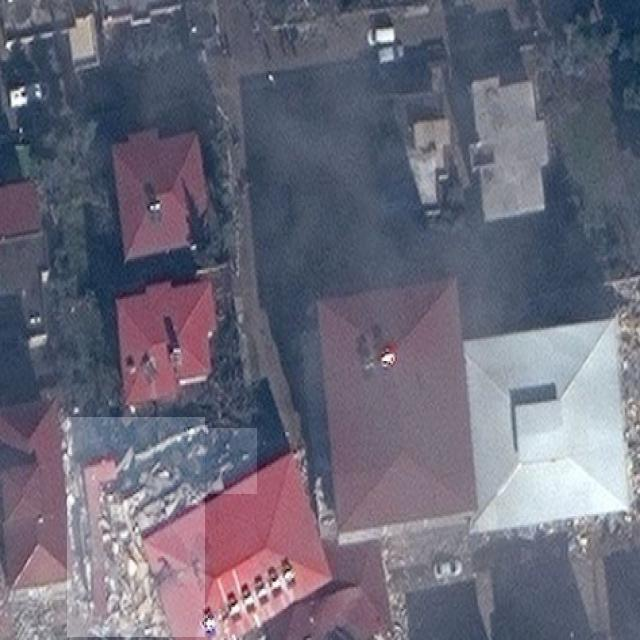Rubble: (68, 417, 206, 637), (88, 487, 168, 640), (122, 428, 257, 494)
